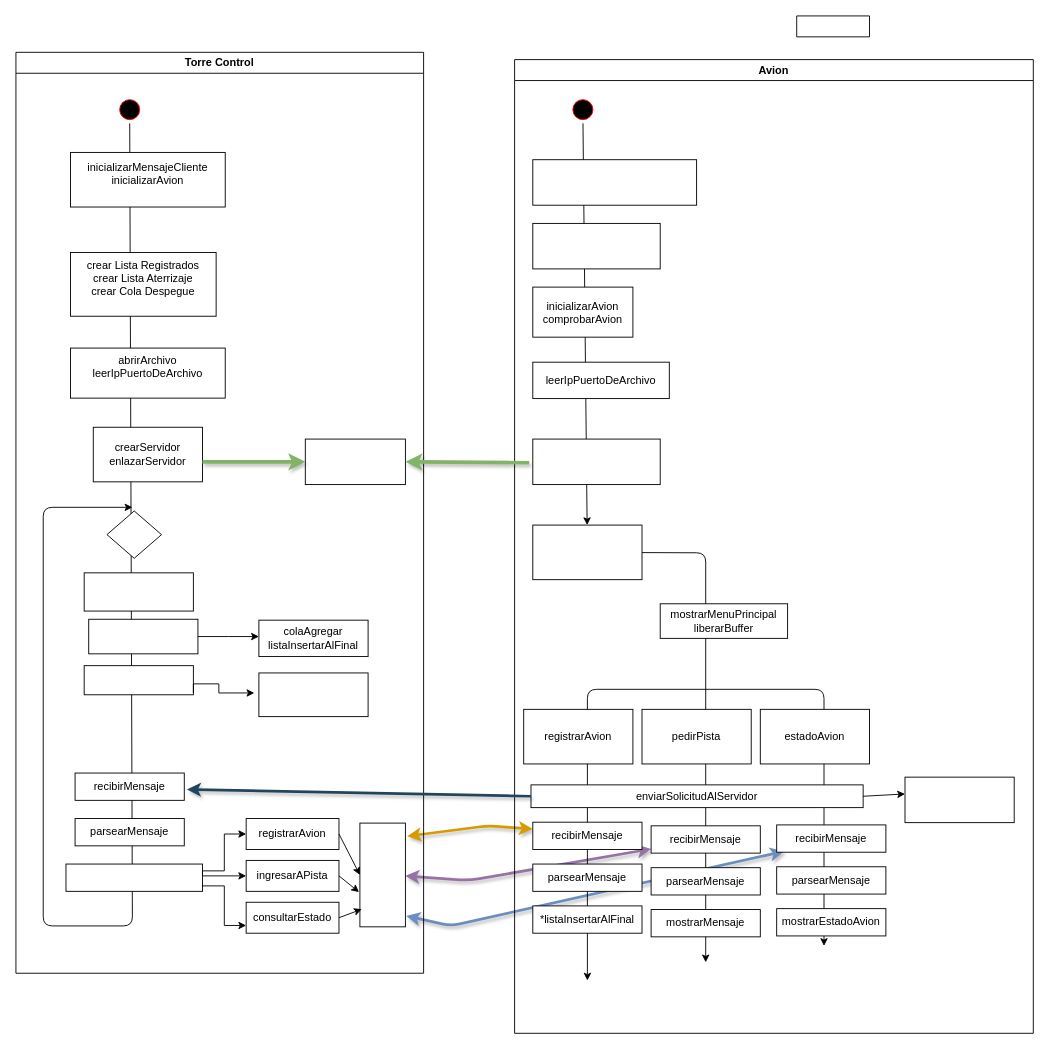
This 1049x1049 diagram has some shape labels left out. The centre of each missing label's shape, as x and y in pixels:
"AdministrarPista" goes at pixel 138 680.
"colaRemover listaBuscarAvion listaBorrarAvion" goes at pixel 313 694.
"comprobarParametrosInicio" goes at pixel 614 182.
"config.txt Direccion Servidor" goes at pixel 354 461.
"crearServidor conectarConServidor" goes at pixel 596 461.
"enviar MsjA Cliente" goes at pixel 382 874.
"formatearMsj enviarMsjAServidor" goes at pixel 959 799.
"gastarCombustible" goes at pixel 138 591.
"inicializarMsjServidor" goes at pixel 596 245.
"IniciarMenuAvion" goes at pixel 587 552.
"manejarEstados" goes at pixel 143 636.
"resolverPedidoCliente" goes at pixel 133 877.
"Thread 3" goes at pixel 833 26.
"while(1)" goes at pixel 134 534.
